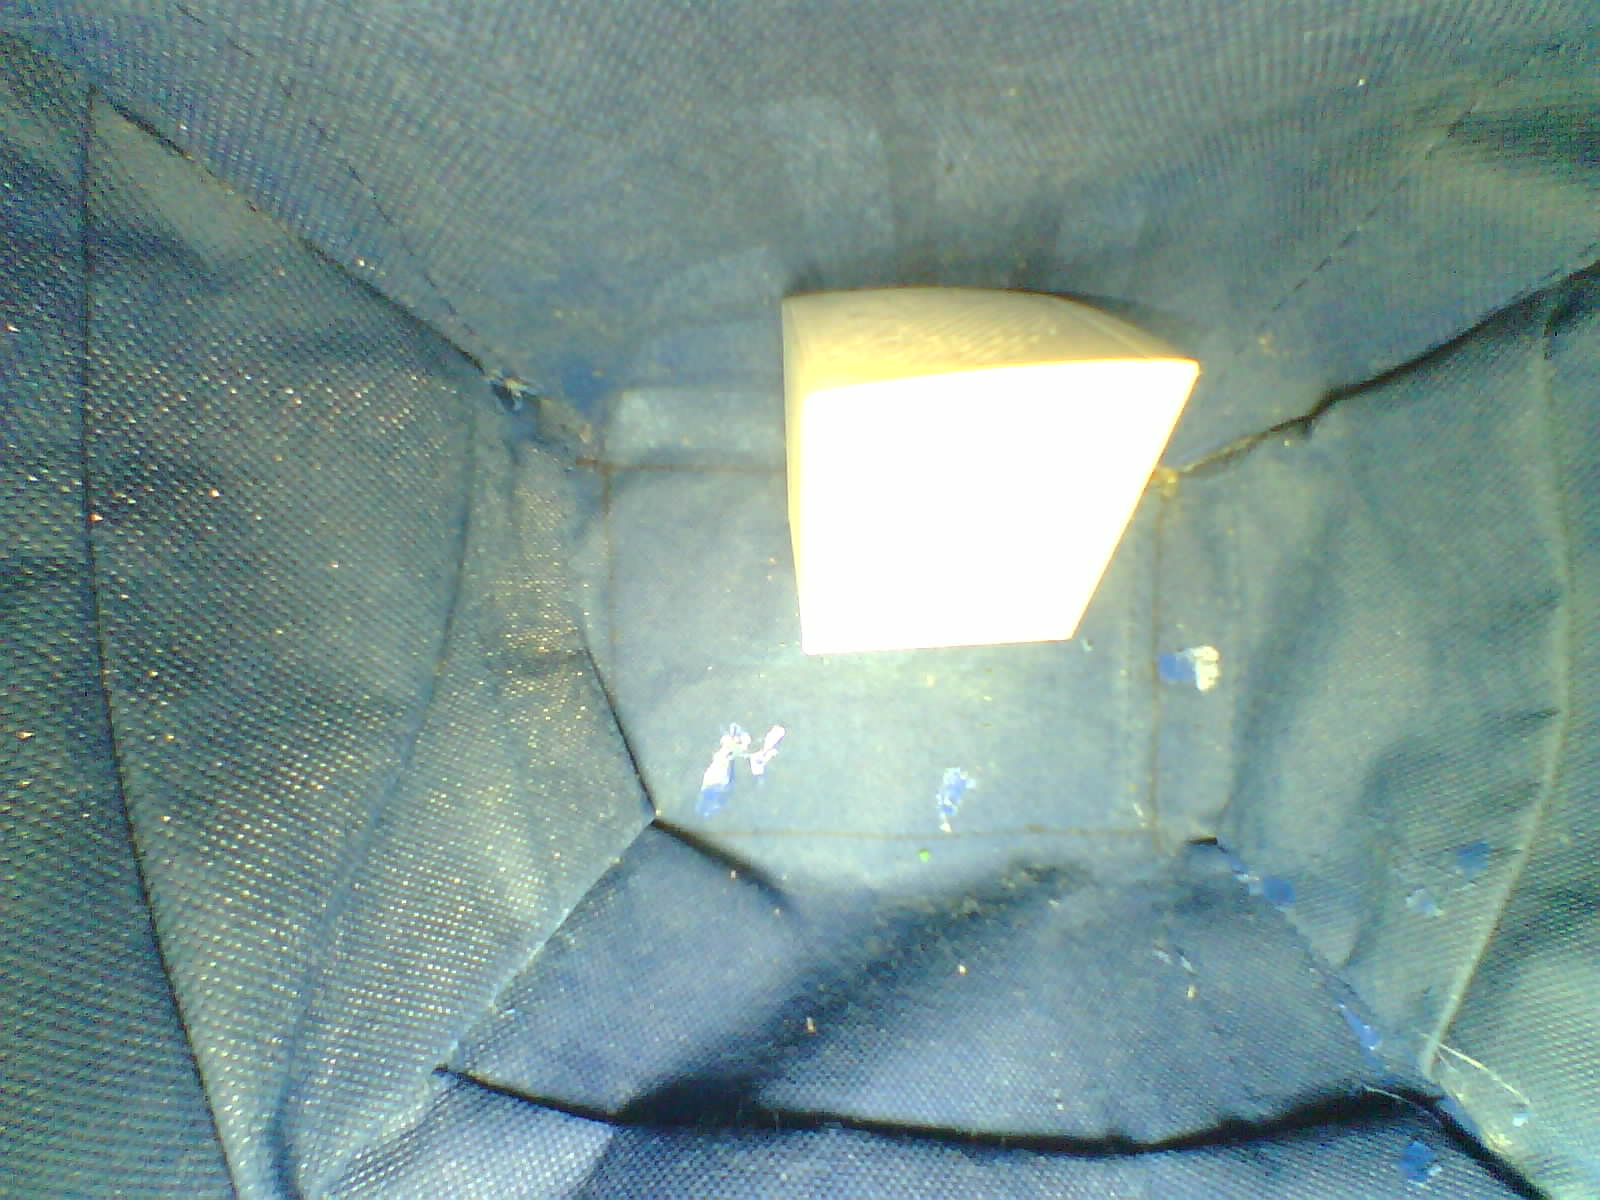cube-hard: (761, 271, 1216, 678)
